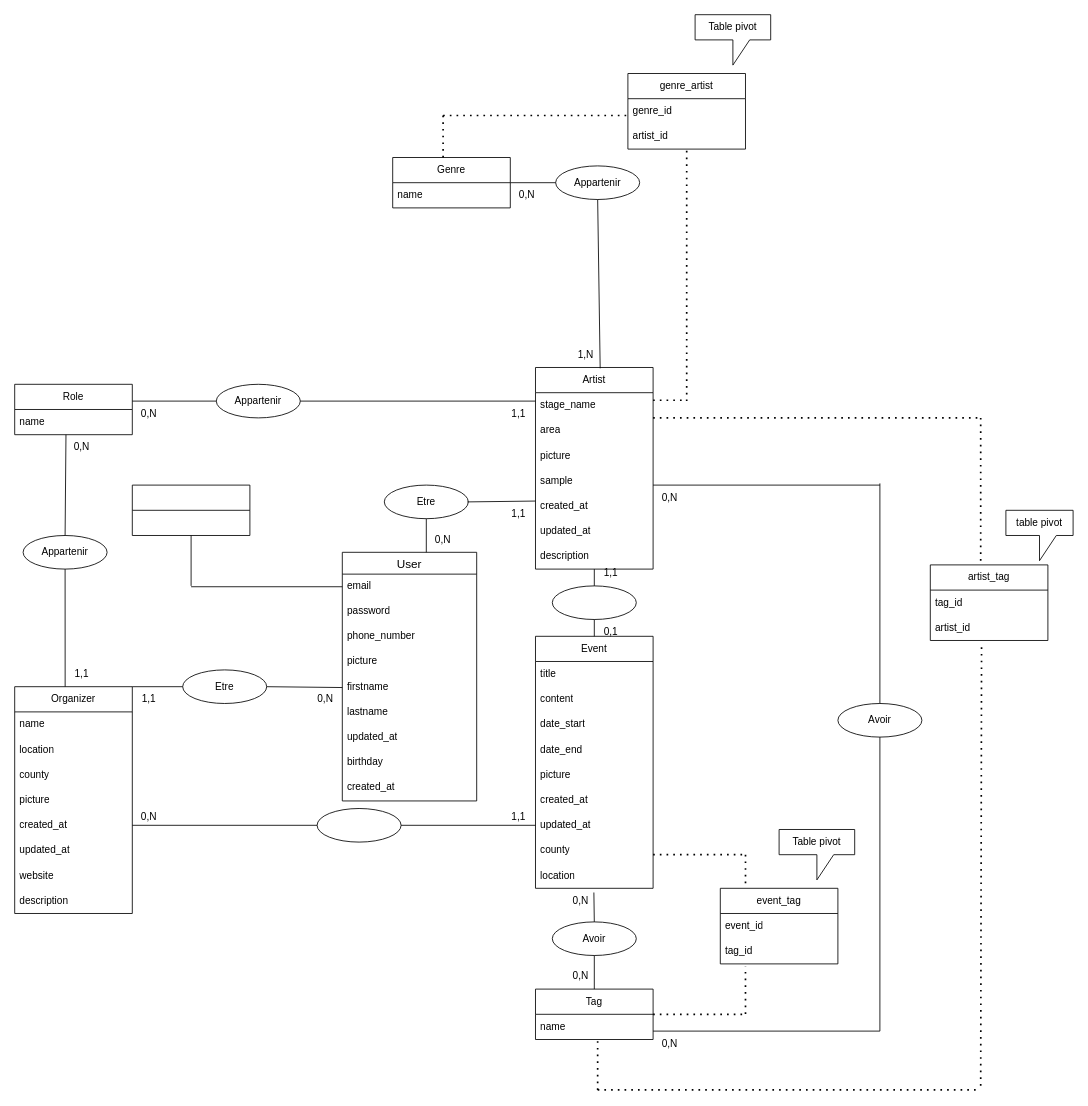
This 1088x1106 diagram has some shape labels left out. Here are the shapes that lost their labels. From the top down, the centre of each, then its label:
point 190,510: favorite ????
point 593,602: Participer
point 358,825: Créer
